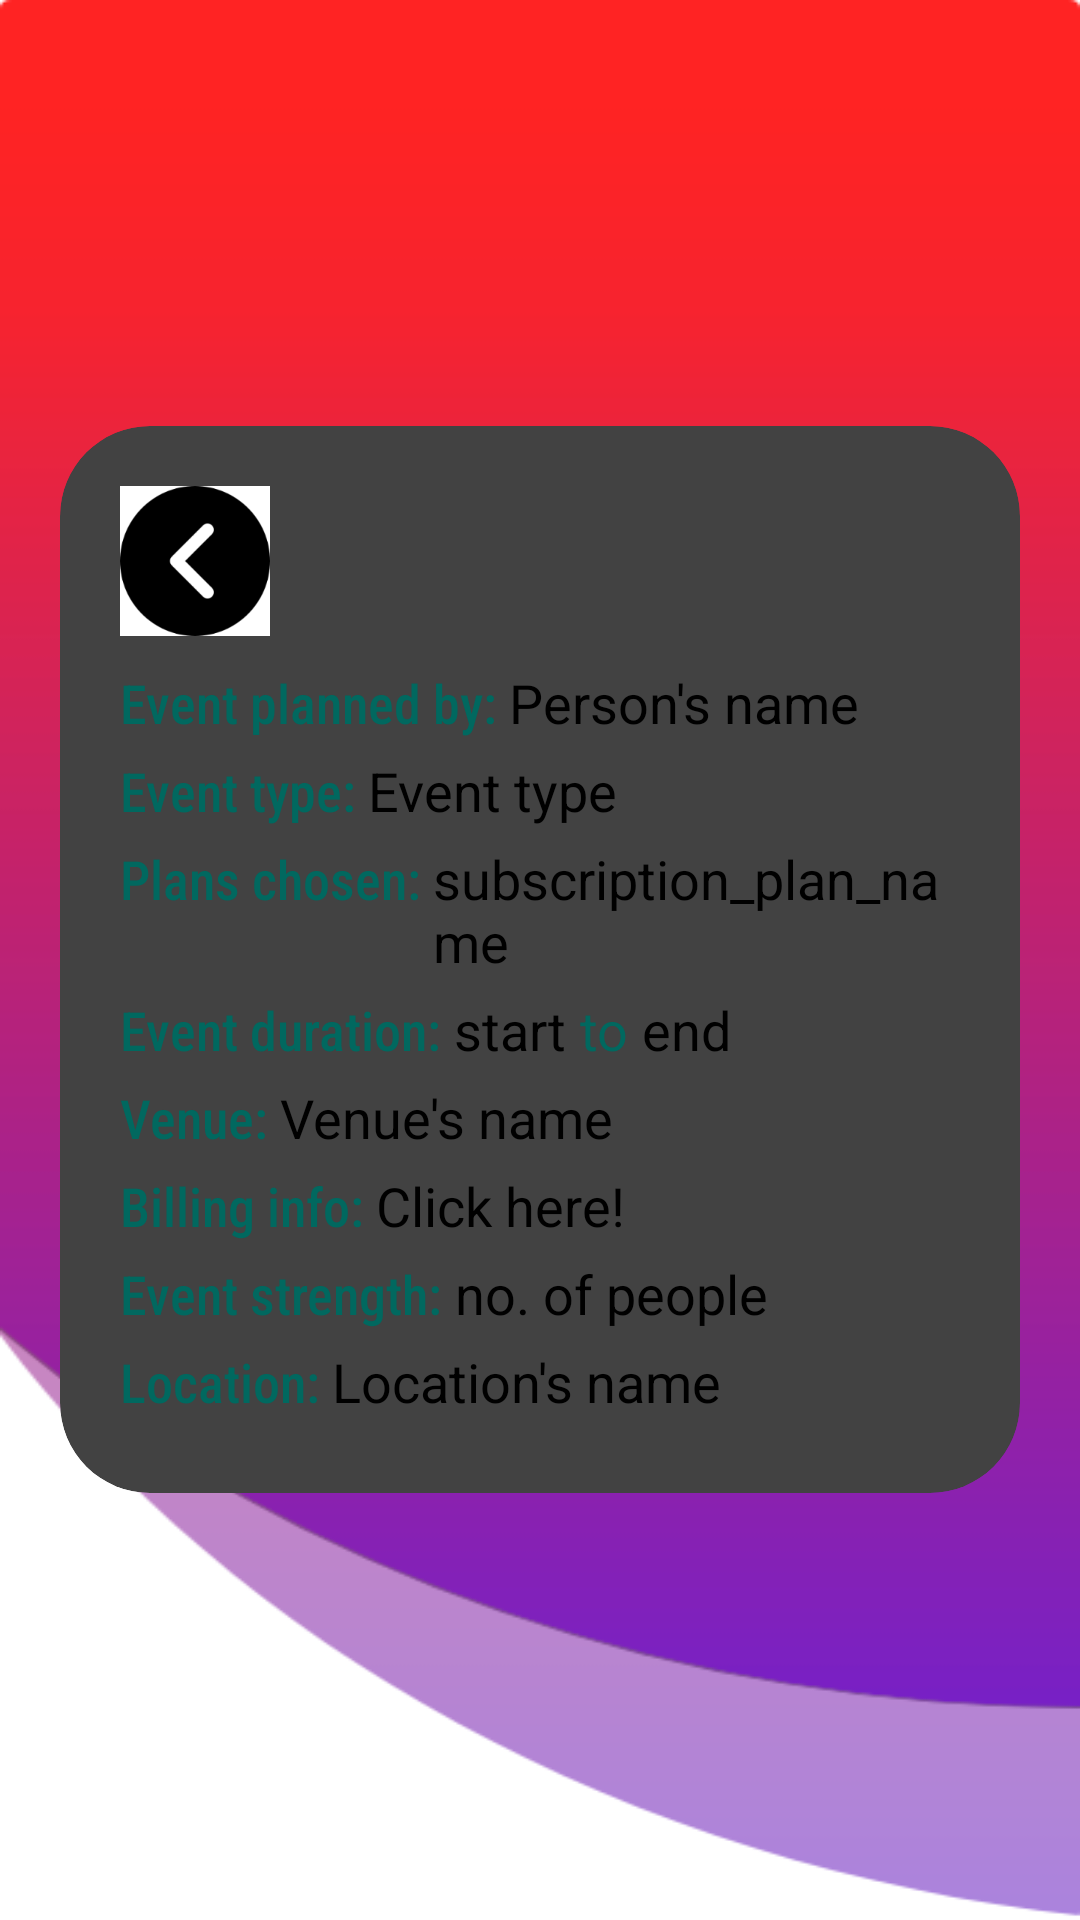

Screen size 1080 × 1920. Icon name, then its box in pixels as (x1, y1, x2, y2):
previous: (120, 486, 270, 636)
